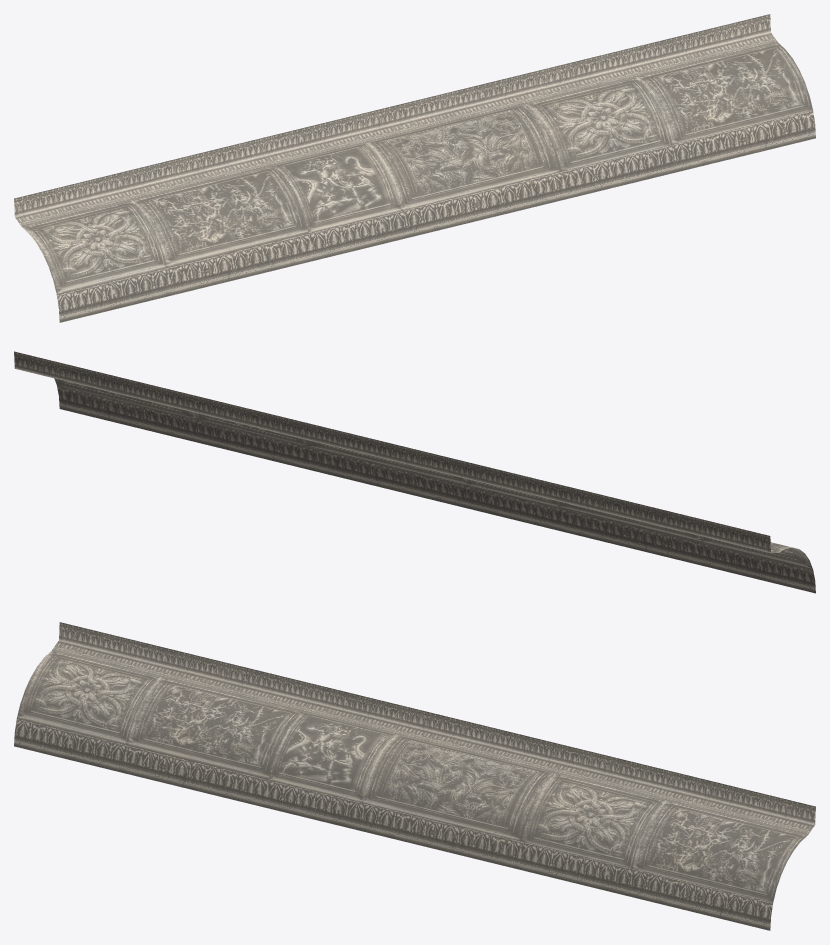
The model's file is Curved Ceiling_Long.fbx.
3 views of the same model, one above another, from view 1: azimuth 30°, elevation 25°; view 2: azimuth 150°, elevation 25°; view 3: azimuth 330°, elevation 25° (orthographic).
Visible parts, largest first — view 1: CeilingRoundLong; view 2: CeilingRoundLong; view 3: CeilingRoundLong.
Boxes of the visible parts, left/top/right/bottom form: CeilingRoundLong: left=14, top=14, right=815, bottom=322; CeilingRoundLong: left=14, top=351, right=815, bottom=593; CeilingRoundLong: left=14, top=622, right=815, bottom=930.
Size of the model in its own units: 1163 by 134 by 122.
